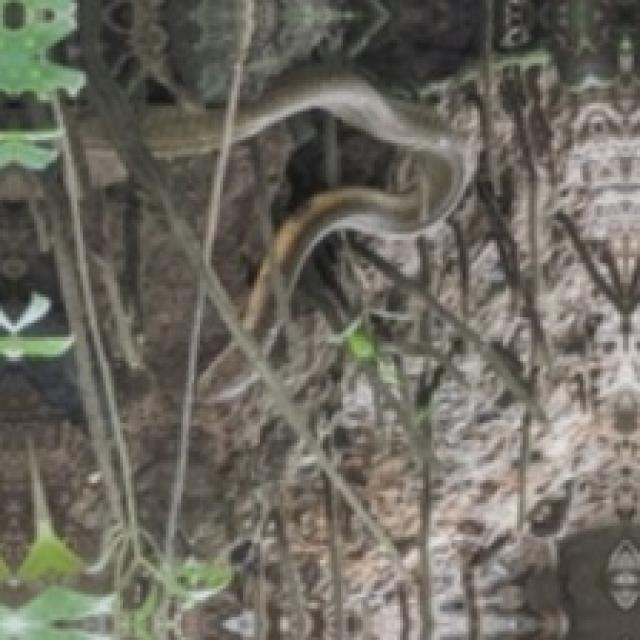king cobra: (236, 74, 475, 333), (144, 109, 220, 159), (199, 341, 260, 401), (85, 141, 128, 188), (0, 161, 39, 201)
